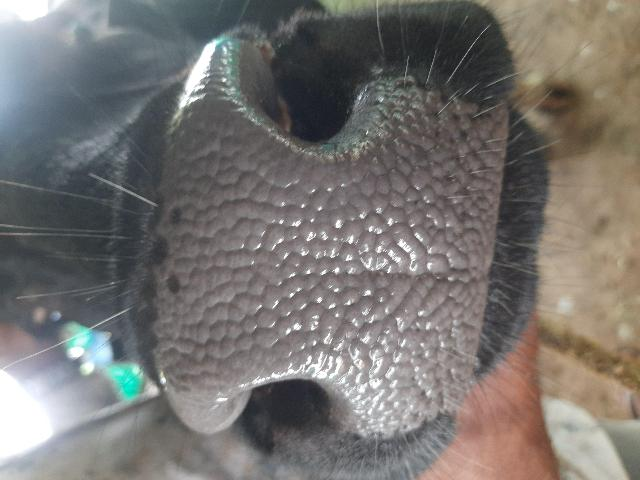Muzzle: (161, 112, 483, 374)
